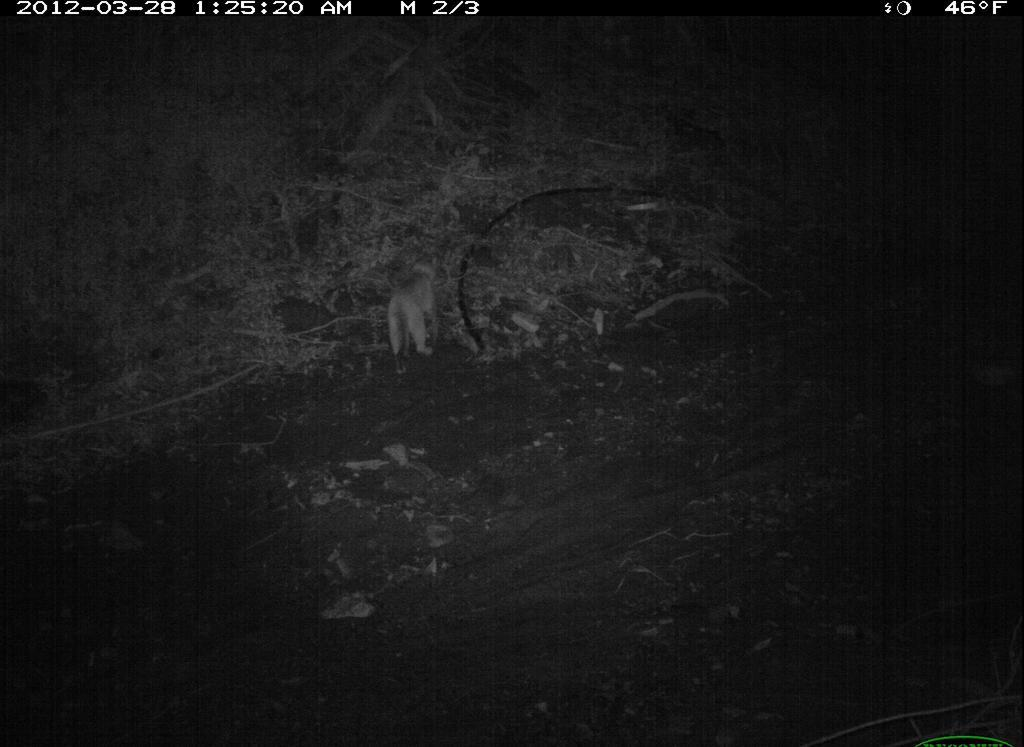cat: (378, 250, 445, 378)
